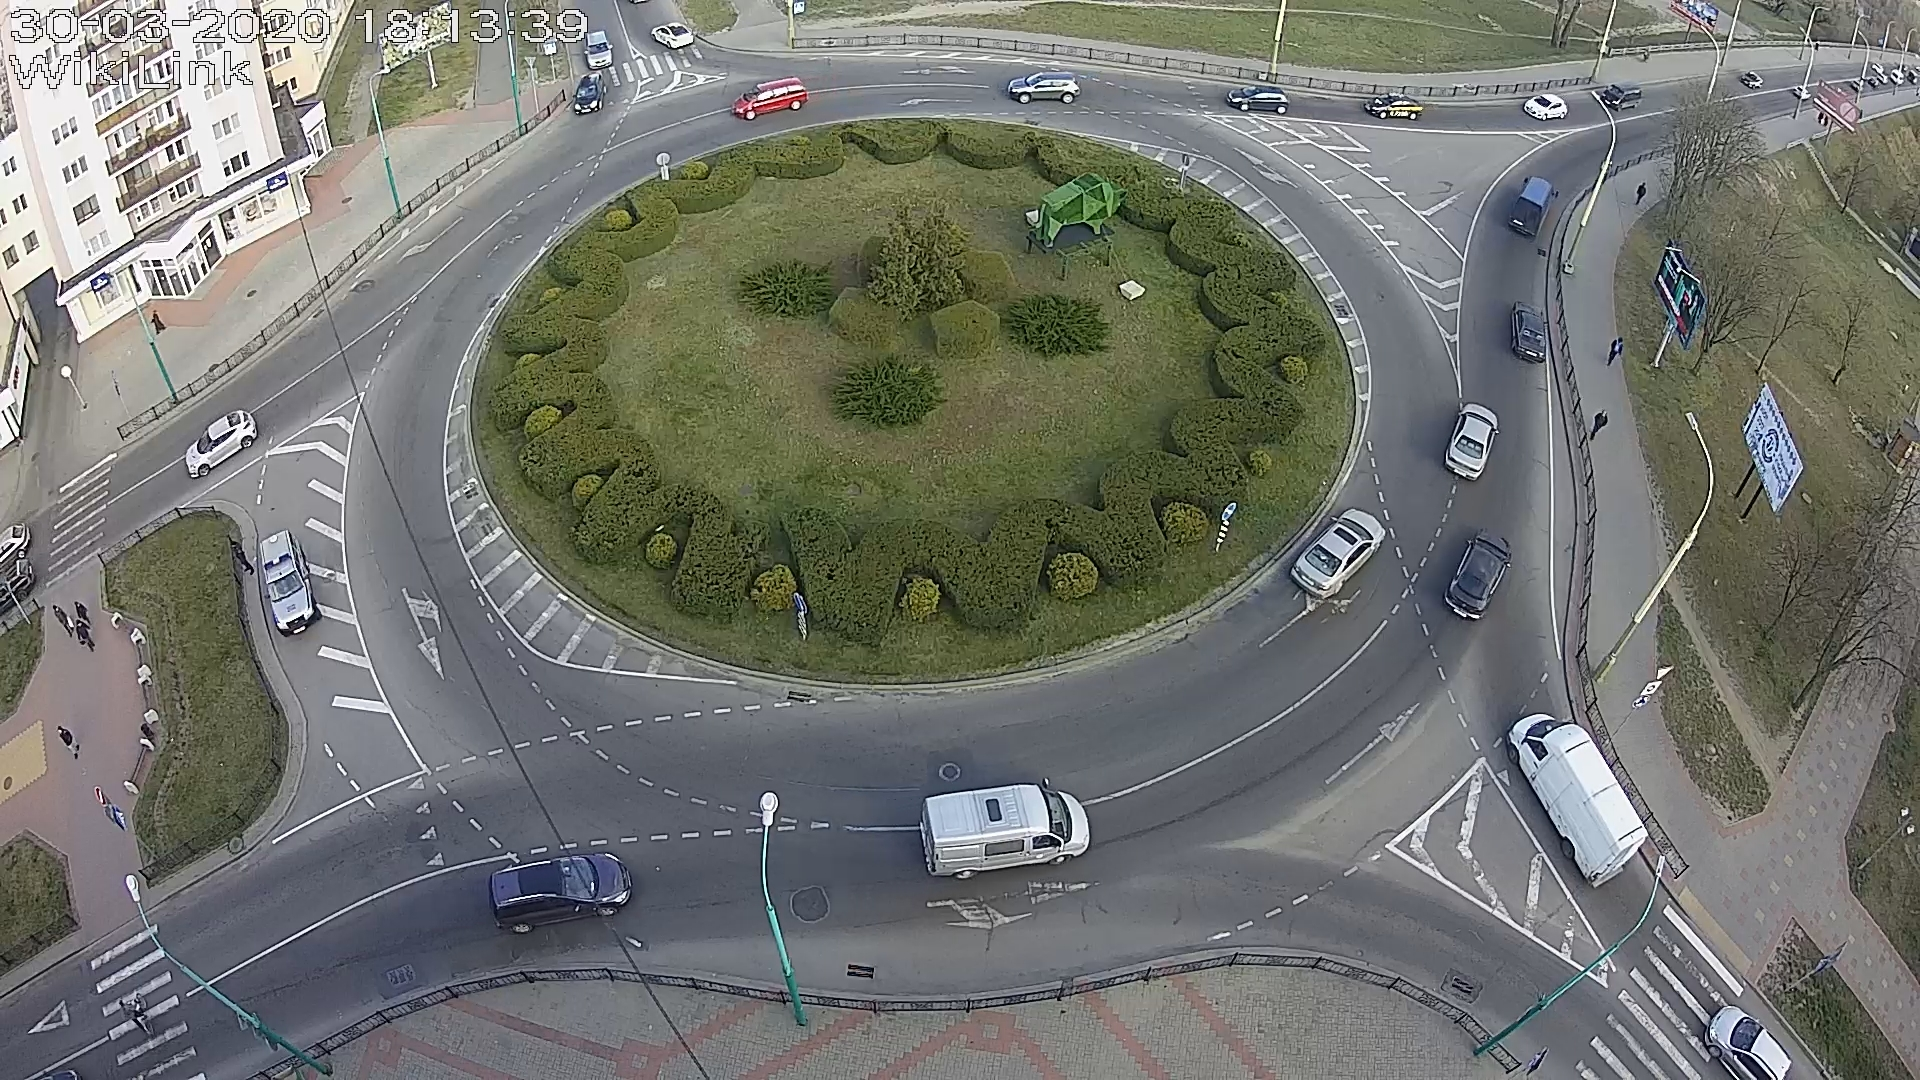car: (1505, 712, 1648, 891), (919, 778, 1091, 881), (489, 853, 633, 935), (1288, 508, 1387, 603), (260, 527, 322, 638), (1704, 1005, 1793, 1080), (1443, 527, 1513, 622), (185, 409, 258, 480), (1444, 402, 1501, 481), (731, 76, 808, 121), (1507, 175, 1560, 239), (1007, 71, 1083, 105), (1510, 301, 1547, 364), (1225, 84, 1288, 115), (1364, 92, 1424, 120), (574, 71, 607, 115), (1600, 80, 1644, 112), (1523, 94, 1569, 121), (650, 22, 694, 51), (584, 30, 615, 70)
